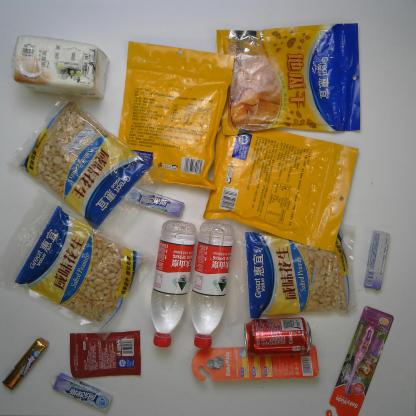Candy: (1, 337, 49, 391), (51, 372, 113, 413), (125, 187, 186, 218), (363, 229, 391, 292)
Dried Fruit: (0, 193, 160, 341), (4, 96, 169, 236), (202, 124, 361, 254), (117, 40, 234, 192), (214, 21, 362, 138), (229, 220, 360, 318)
Drink: (149, 219, 197, 348), (190, 221, 236, 350), (242, 315, 313, 358)
Personal Hygiene: (324, 305, 394, 416), (191, 346, 321, 382)
Seasoner: (69, 329, 142, 378)
Tissue: (9, 32, 112, 100)
